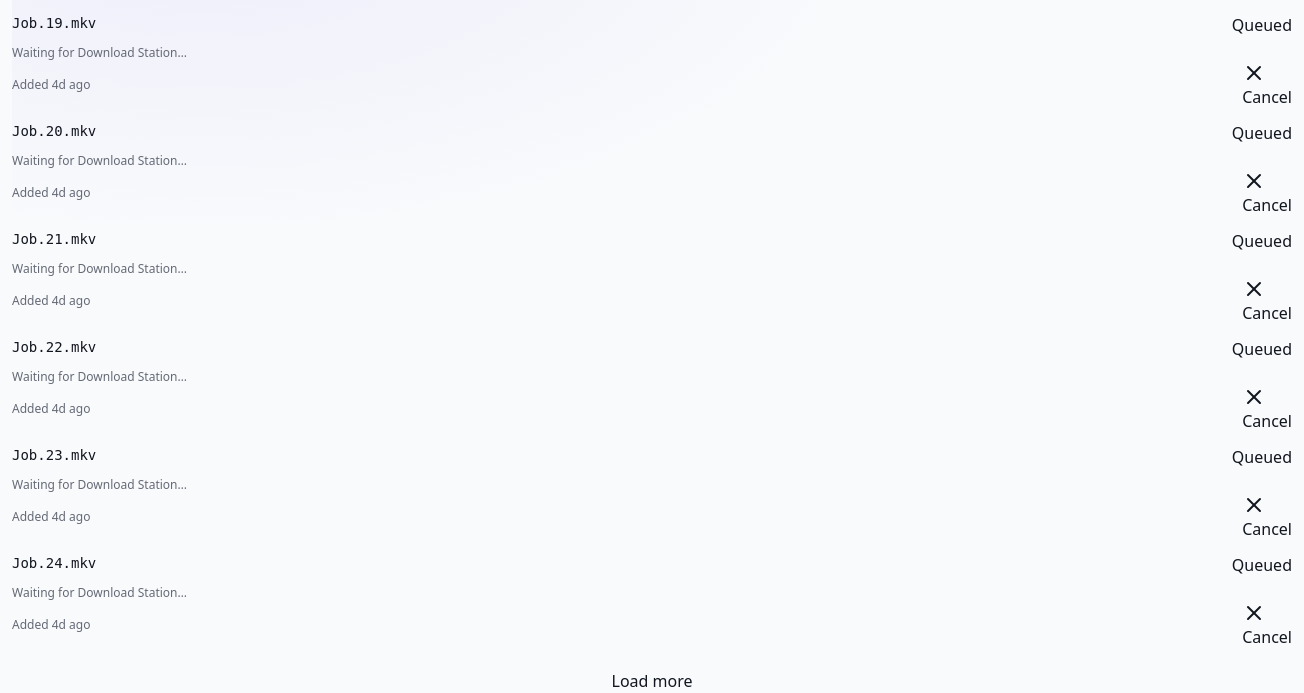
DownloadsPage › with 130 downloads, Load more stops at 100 (capped: true)
This screenshot has width=1304, height=693.
(page scrolled)
Click the button "Load more" at (652, 680), box [612, 668, 692, 692]
(page scrolled)
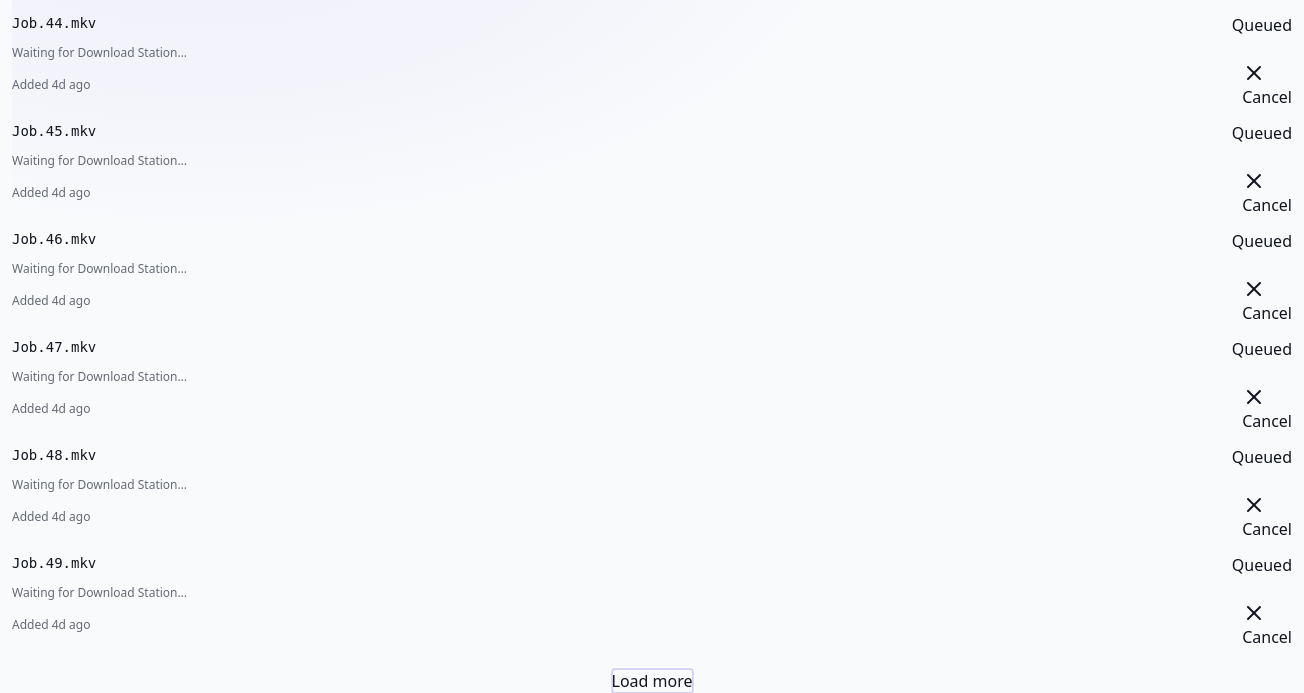
Click the button "Load more" at (652, 680), box [612, 668, 692, 692]
(page scrolled)
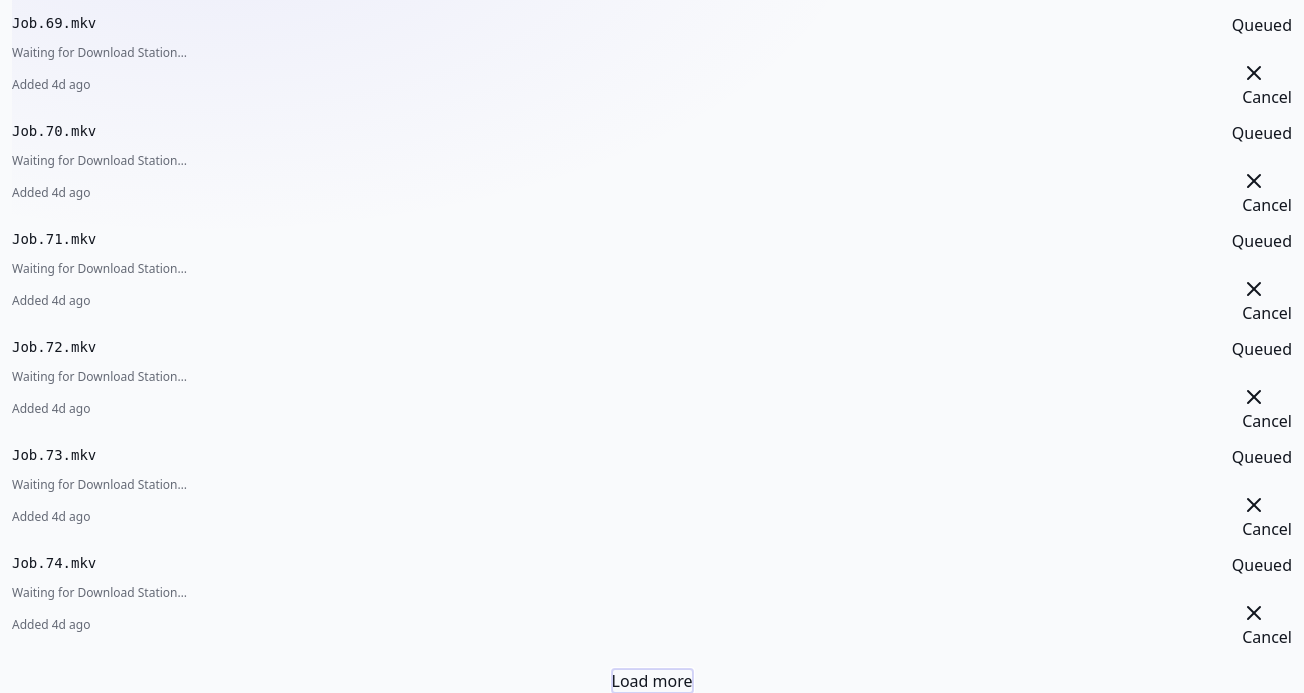
Click the button "Load more" at (652, 680), box [612, 668, 692, 692]
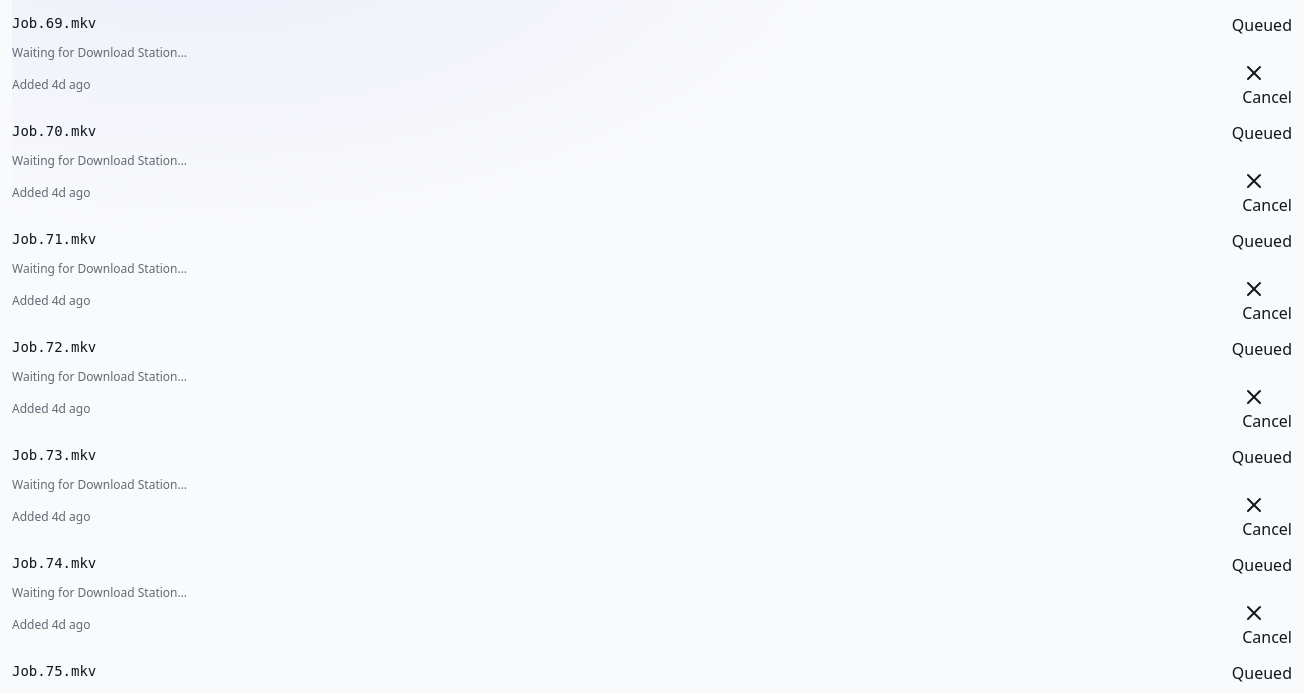
expect the button "Load more" is gone: met
